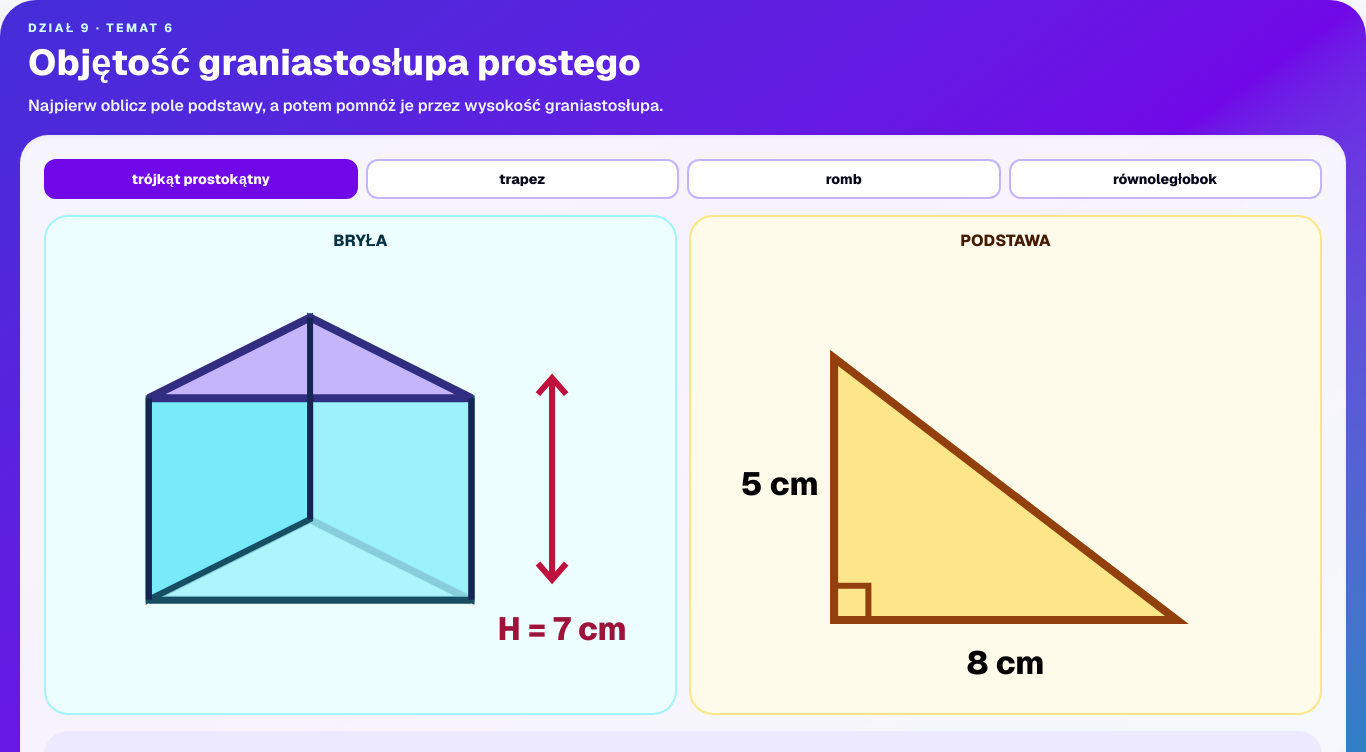
Scenario: PrismVolumeLessonLab › pokazuje bryłę, osobną podstawę i wzór na objętość
Check: the text "BRYŁA" is shown, box [333,230,388,251]
Check: the text "PODSTAWA" is shown, box [960,230,1051,251]
Step 1. Click the button "trapez" → (522, 179), box [366,159,679,199]
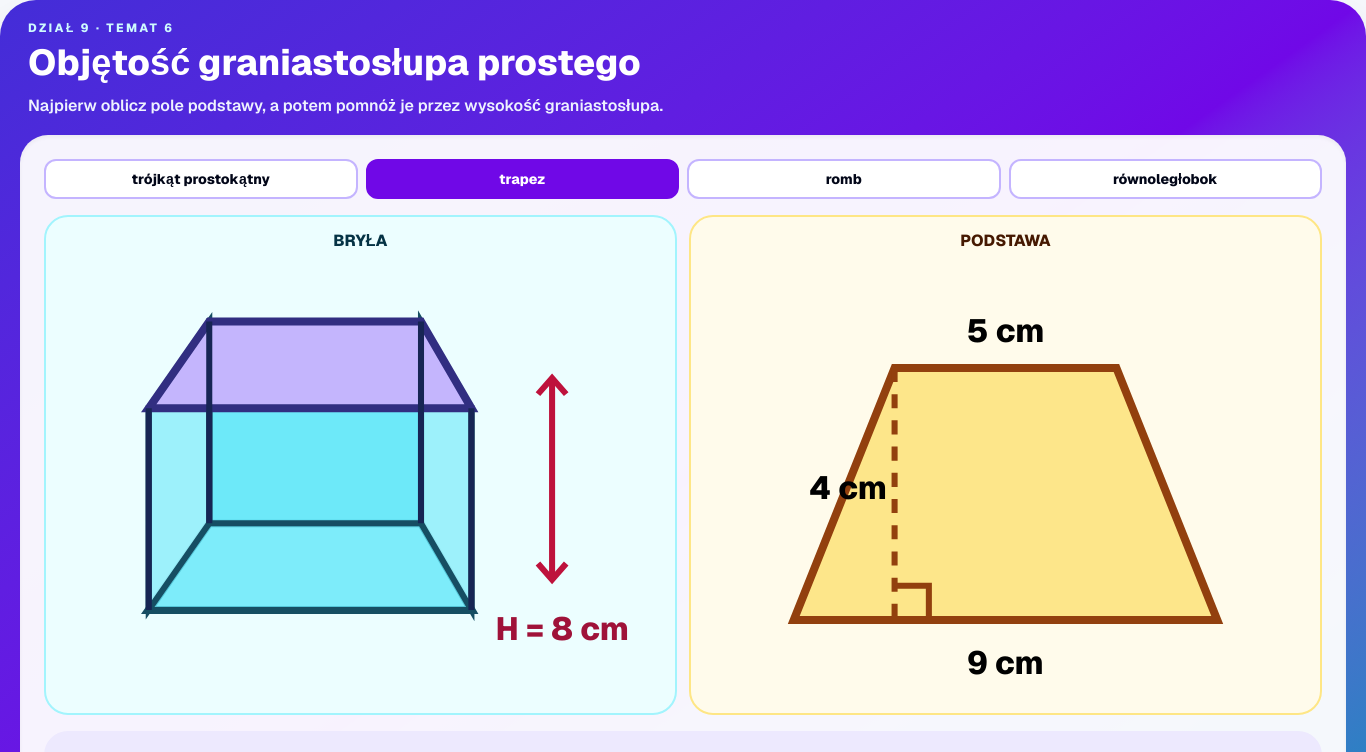
Check: the picture named "podstawie: trapez" is shown
